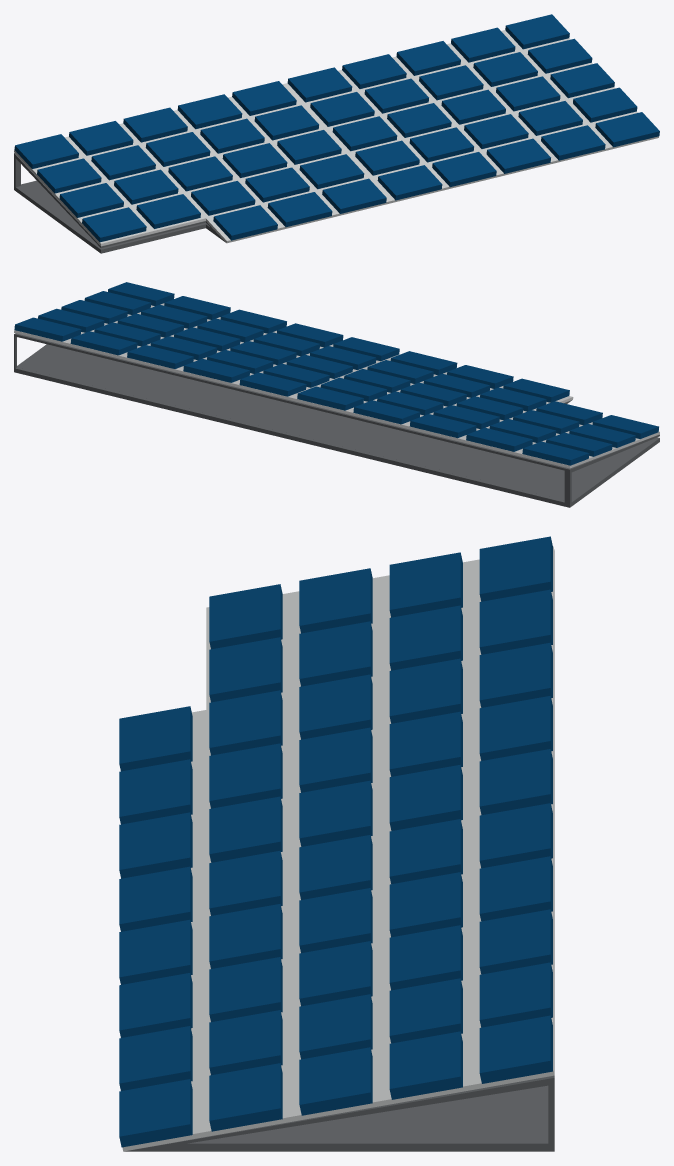
Rendered from Solar Panel 5x10 small missing 2 panels.glb.
3 views of the same model, one above another, from view 1: azimuth 30°, elevation 25°; view 2: azimuth 150°, elevation 25°; view 3: azimuth 270°, elevation 25° (orthographic). The views are drawn at different scales.
Visible parts, largest first — view 1: Mesh_Mesh_head_geo.001_lambert2SG.001; view 2: Mesh_Mesh_head_geo.001_lambert2SG.001; view 3: Mesh_Mesh_head_geo.001_lambert2SG.001.
Boxes of the visible parts, x1,y1,x2,y2 form: Mesh_Mesh_head_geo.001_lambert2SG.001: (14, 14, 659, 253); Mesh_Mesh_head_geo.001_lambert2SG.001: (14, 282, 659, 507); Mesh_Mesh_head_geo.001_lambert2SG.001: (119, 536, 554, 1151).
Bounding box in the file's own units: 305 × 24.65 × 107.
